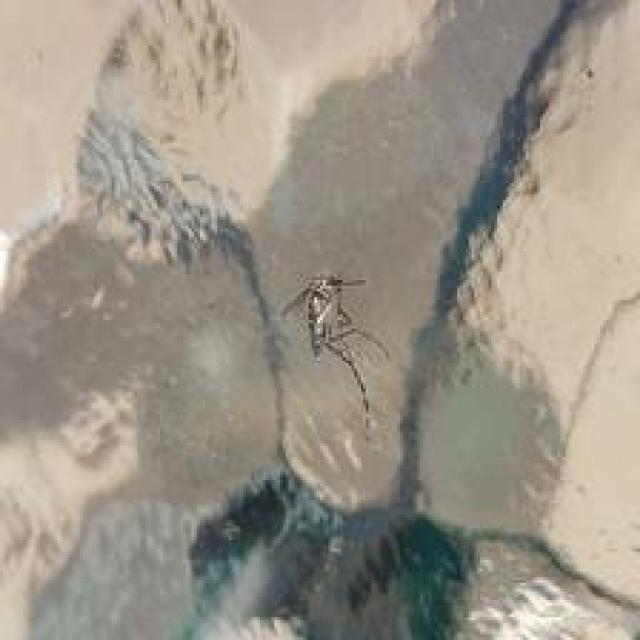Aedes albopictus: (279, 269, 390, 434)
